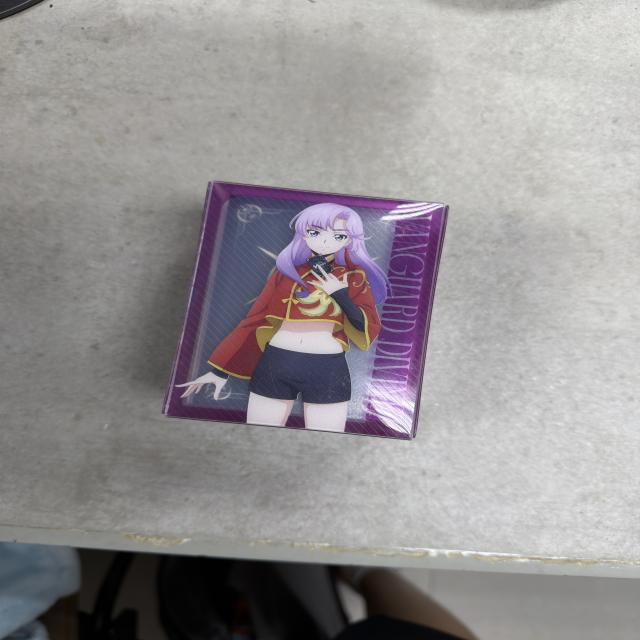box: (163, 179, 451, 447)
